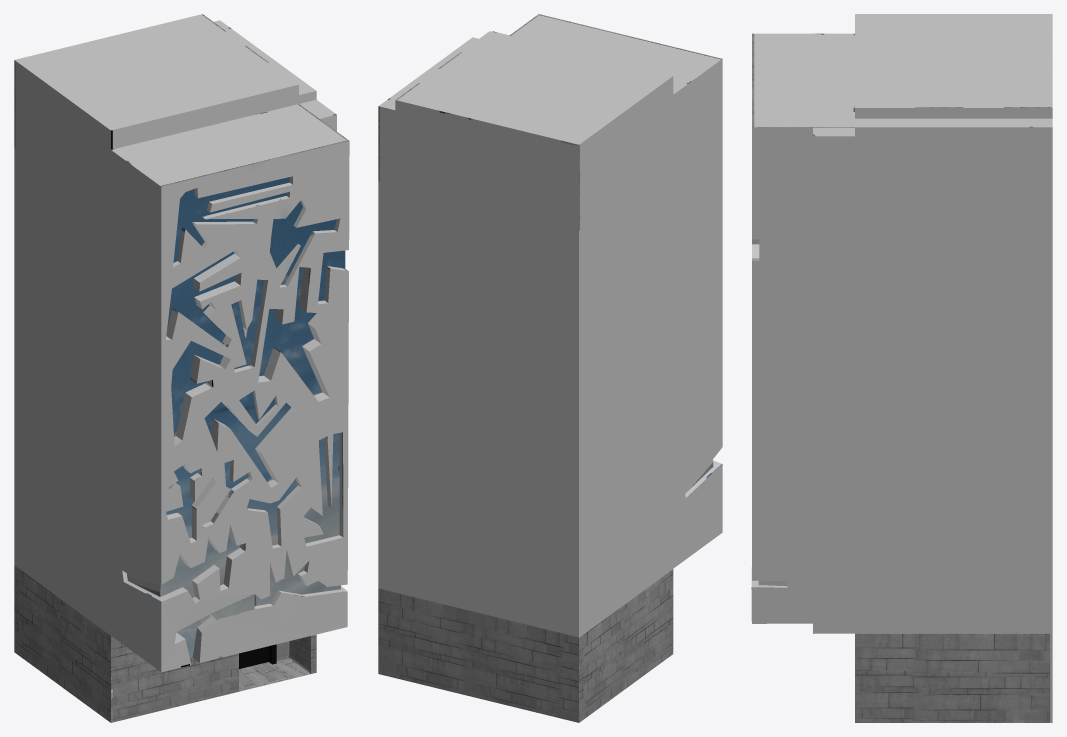
Rendered from Obra01 (1).fbx.
The picture shows the model from 3 angles, left to right: view 1: azimuth 30°, elevation 25°; view 2: azimuth 150°, elevation 25°; view 3: azimuth 270°, elevation 25°; orthographic projection. The views are drawn at different scales.
Visible parts, largest first — view 1: building_019; view 2: building_019; view 3: building_019.
Part boxes in pixels (x1,y1,x2,y2): building_019: (14,14,349,722); building_019: (378,14,722,722); building_019: (751,14,1052,722).
Bounding box in the file's own units: 492 × 1355 × 610.
